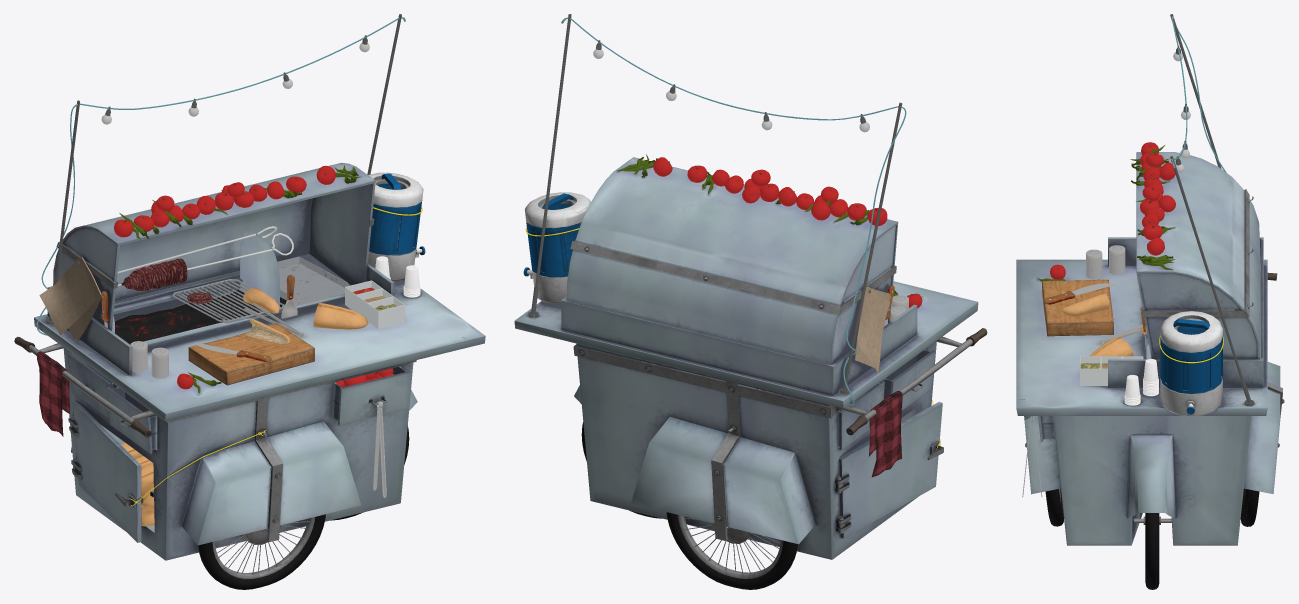
Rendered from food-cart.glb.
3 renders of one model, left to right at view 1: azimuth 30°, elevation 25°; view 2: azimuth 150°, elevation 25°; view 3: azimuth 270°, elevation 25°, orthographic. The views are drawn at different scales.
Parts seen in each view (by area): view 1: Cube.096, Cylinder.310, Cube.082, Cube.084, Cube.090, Cylinder.329, Cube.095, Cube.108, Cube.093, Cube.087, Cube.086, Plane.024 (+16 smaller); view 2: Cylinder.310, Cube.082, Cube.083, Cylinder.309, Cube.096, Cube.090, Cube.086, Cylinder.329, Cylinder.328, Cube.087, Plane.021, Torus.010 (+6 smaller); view 3: Cube.082, Cylinder.310, Cube.096, Cylinder.329, Cube.085, Cylinder.309, Cube.083, Cube.095, Cube.084, Cylinder.328, Torus.009, Cylinder.314 (+14 smaller).
Part boxes in pixels (x1,y1,x2,y2): Cube.096: [34, 254, 485, 421]; Cylinder.310: [53, 162, 375, 330]; Cube.082: [63, 348, 413, 560]; Cube.084: [182, 421, 361, 545]; Cube.090: [68, 401, 141, 542]; Cylinder.329: [368, 172, 423, 281]; Cube.095: [188, 323, 314, 385]; Cube.108: [114, 290, 286, 344]; Cube.093: [332, 366, 411, 425]; Cube.087: [67, 352, 157, 453]; Cube.086: [165, 360, 416, 542]; Plane.024: [39, 257, 95, 335]; Cylinder.310: [567, 157, 898, 364]; Cube.082: [576, 341, 936, 559]; Cube.083: [631, 416, 815, 544]; Cylinder.309: [561, 296, 917, 396]; Cube.096: [514, 281, 978, 408]; Cube.090: [835, 402, 942, 538]; Cube.086: [573, 344, 838, 540]; Cylinder.329: [525, 192, 590, 303]; Cylinder.328: [570, 240, 896, 314]; Cube.087: [838, 349, 935, 449]; Plane.021: [869, 391, 902, 477]; Torus.010: [666, 512, 797, 589]; Cube.082: [1053, 416, 1251, 545]; Cylinder.310: [1136, 152, 1260, 359]; Cube.096: [1016, 259, 1267, 415]; Cylinder.329: [1160, 311, 1222, 416]; Cube.085: [1127, 435, 1175, 518]; Cylinder.309: [1108, 237, 1263, 387]; Cube.083: [1244, 362, 1280, 494]; Cube.095: [1042, 279, 1113, 336]; Cube.084: [1024, 416, 1060, 494]; Cylinder.328: [1141, 189, 1249, 317]; Torus.009: [1145, 513, 1159, 589]; Cylinder.314: [1170, 156, 1254, 405].
Size of the model in its own units: 311 by 389 by 207.
6 materials, 6 textured.
